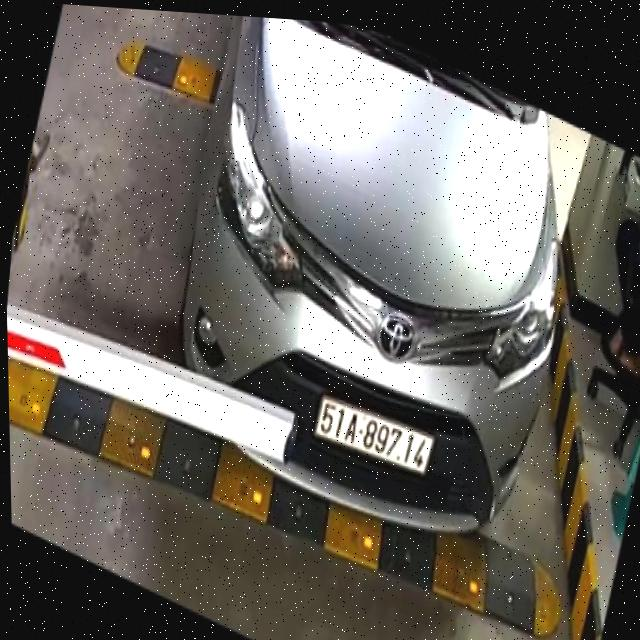car: (146, 10, 593, 562)
plate: (307, 389, 439, 481)
